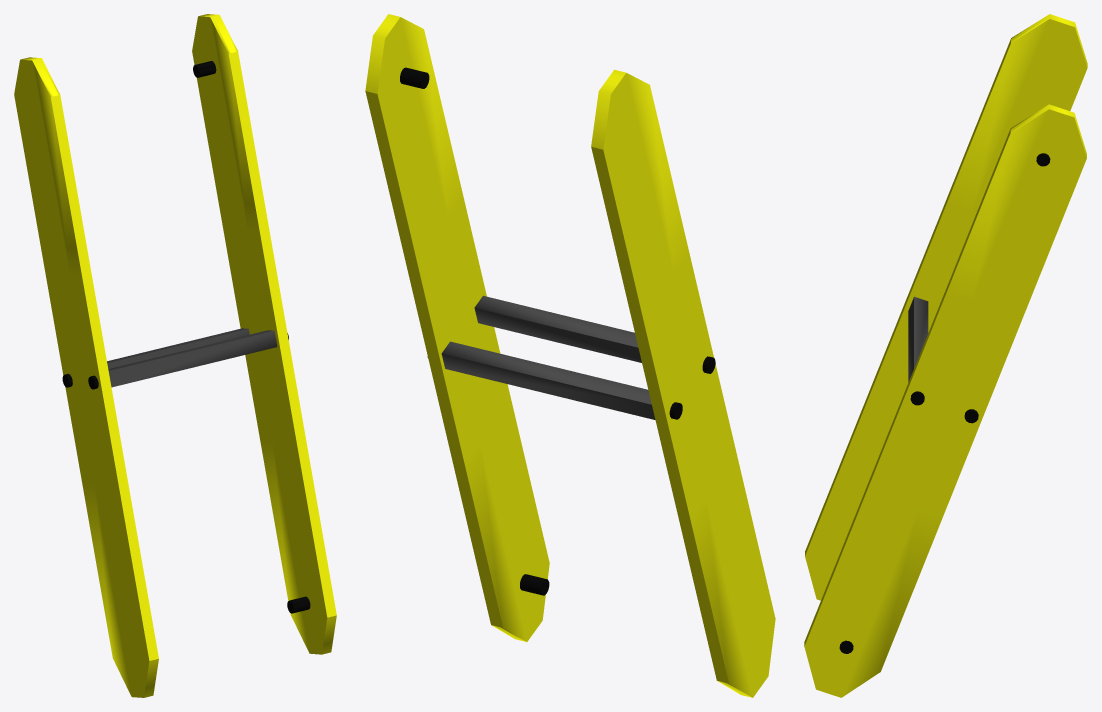
File: arm1.obj
3 views of the same model, side by side, from view 1: azimuth 30°, elevation 25°; view 2: azimuth 150°, elevation 25°; view 3: azimuth 270°, elevation 25° (orthographic). The views are drawn at different scales.
Parts seen in each view (by area): view 1: block, block00000, box0000000, box; view 2: block, block00000, box, box0000000; view 3: block00000, block, box0000000.
Part boxes in pixels (<box>): block: <box>14,57,158,697</box>; block00000: <box>192,14,336,654</box>; box0000000: <box>108,330,277,387</box>; box: <box>107,328,249,368</box>; block: <box>591,69,775,697</box>; block00000: <box>365,14,549,641</box>; box: <box>441,341,655,419</box>; box0000000: <box>474,295,641,362</box>; block00000: <box>804,104,1086,697</box>; block: <box>805,14,1087,600</box>; box0000000: <box>908,296,928,382</box>.
Bounding box in the file's own units: 0.3251 × 0.9038 × 0.3938.
